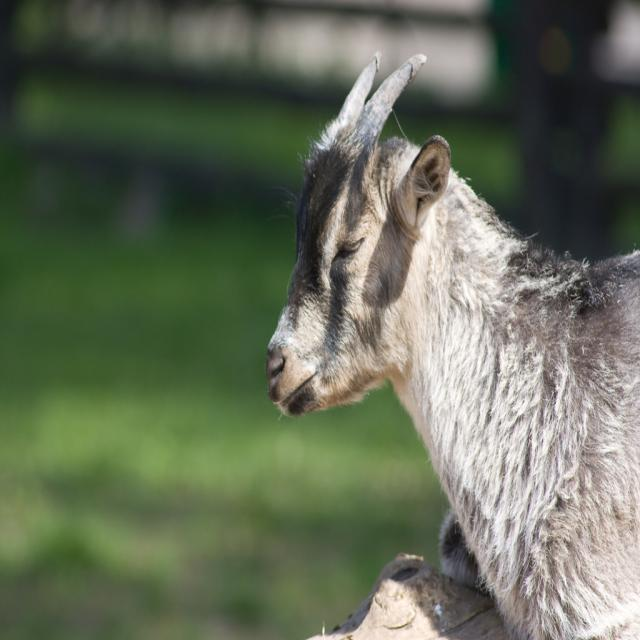Goat: (271, 24, 640, 628)
